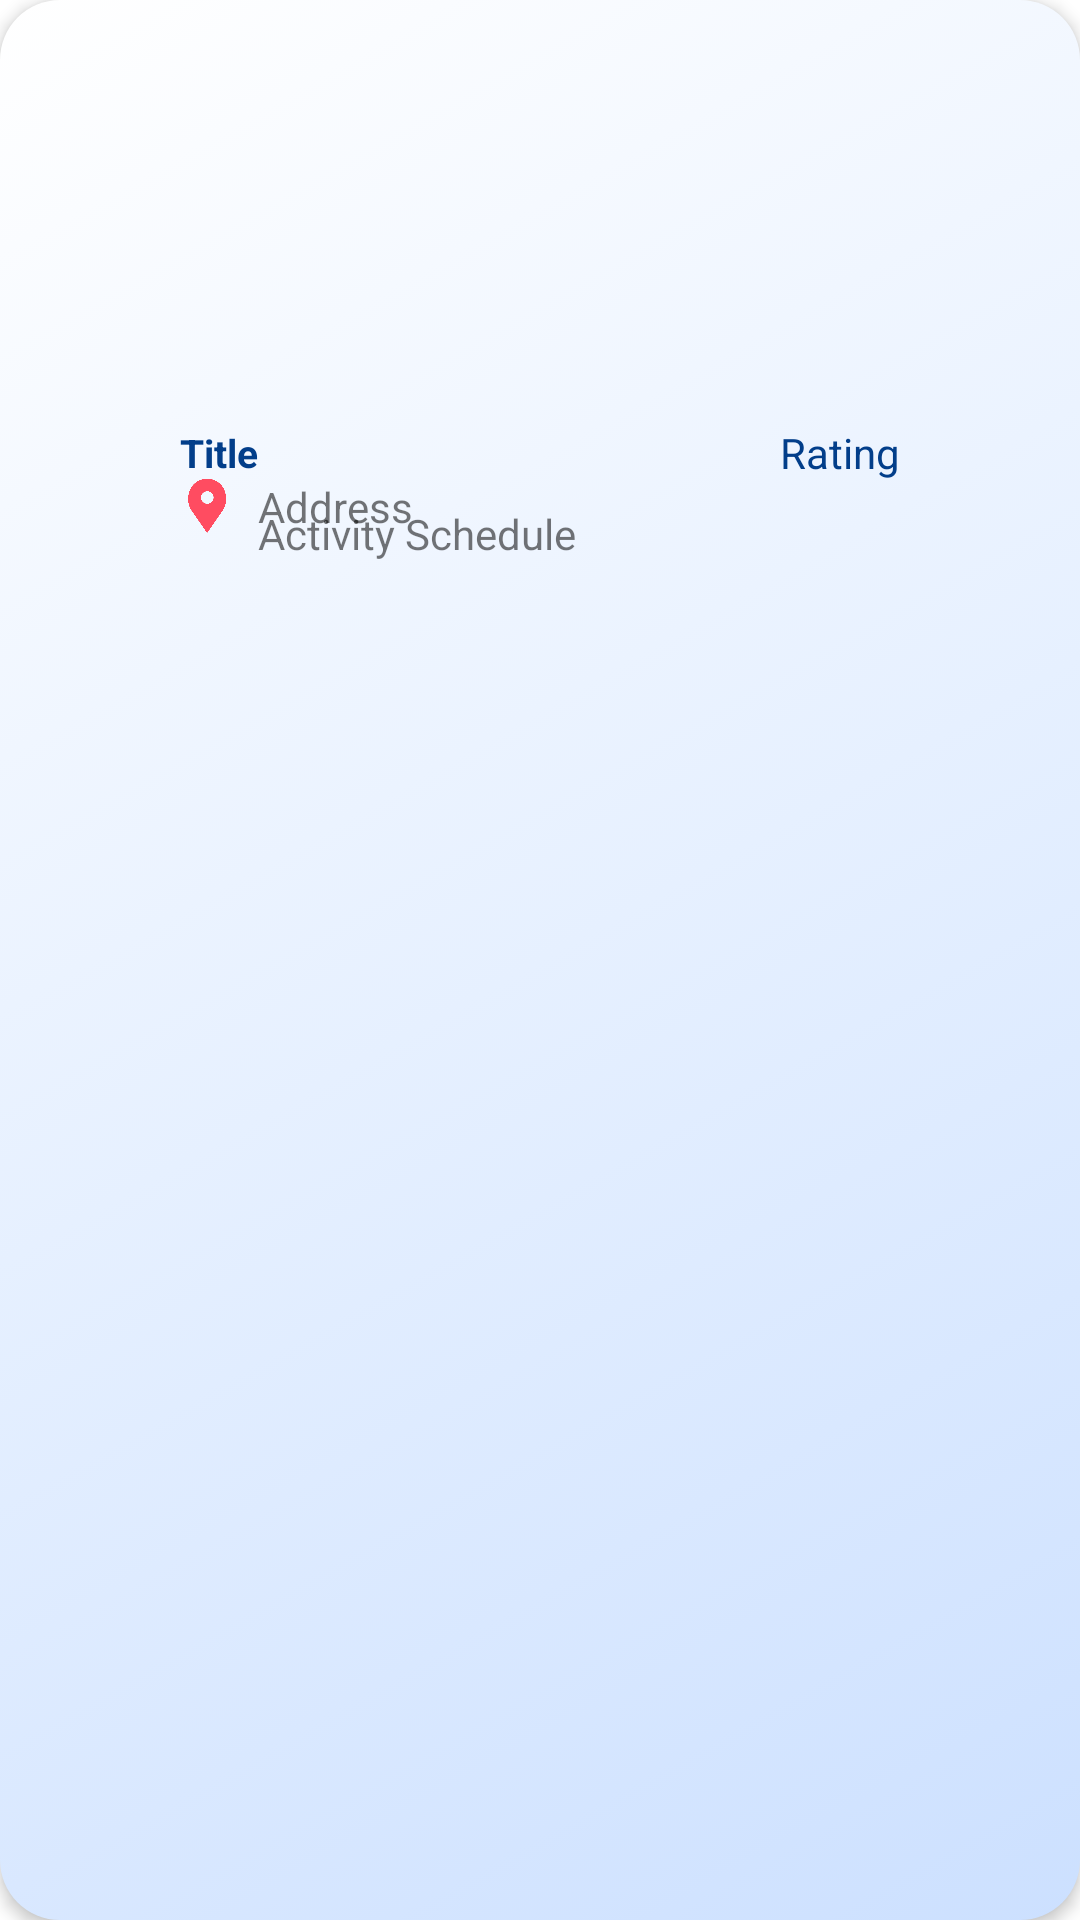

Named icons in this screenshot (1080 × 1920) and their bounding boxes, (x1, y1, x2, y2):
location: (188, 479, 226, 533)
